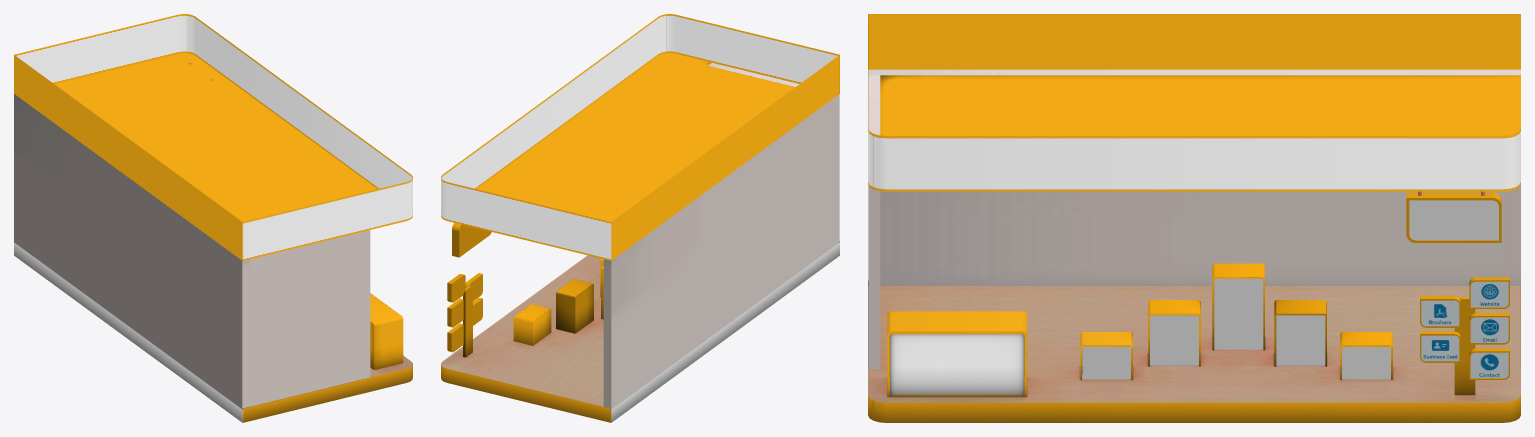
Rendered from stall.glb.
The picture shows the model from 3 angles, left to right: view 1: azimuth 30°, elevation 25°; view 2: azimuth 150°, elevation 25°; view 3: azimuth 270°, elevation 25°; orthographic projection. The views are drawn at different scales.
Parts seen in each view (by area): view 1: Cube.010, wall, base, desk, base wood; view 2: Cube.010, wall, base wood, base, Cube, p stand 04, p stand 05, contact stand 02.001; view 3: Cube.010, wall, base wood, p stand 01, base, desk, Cube, contact stand 02.001, p stand 03, p stand 04, p stand 02, Cube.001 (+5 smaller).
Boxes of the visible parts, x1,y1,x2,y2 form: Cube.010: [14, 14, 412, 260]; wall: [14, 94, 370, 408]; base: [14, 242, 412, 422]; desk: [370, 293, 403, 369]; base wood: [243, 356, 412, 408]; Cube.010: [441, 14, 839, 260]; wall: [603, 62, 839, 409]; base wood: [441, 255, 603, 406]; base: [441, 242, 839, 422]; Cube: [447, 223, 491, 352]; p stand 04: [556, 279, 593, 333]; p stand 05: [513, 304, 551, 345]; contact stand 02.001: [463, 286, 472, 357]; Cube.010: [868, 14, 1520, 191]; wall: [868, 69, 1520, 369]; base wood: [868, 281, 1520, 402]; p stand 01: [1080, 200, 1498, 379]; base: [868, 395, 1520, 422]; desk: [887, 311, 1027, 397]; Cube: [1406, 192, 1509, 379]; contact stand 02.001: [1454, 297, 1475, 394]; p stand 03: [1212, 263, 1264, 350]; p stand 04: [1274, 300, 1326, 366]; p stand 02: [1148, 300, 1200, 366]; Cube.001: [1421, 300, 1459, 326].
Bounding box in the file's own units: 8.53 × 9.37 × 19.29.
Materials: 19 (16 with a texture image).
